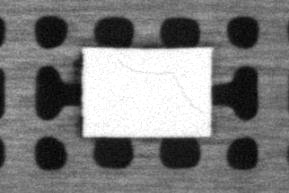DIE_CRACK: (118, 59, 201, 113)
